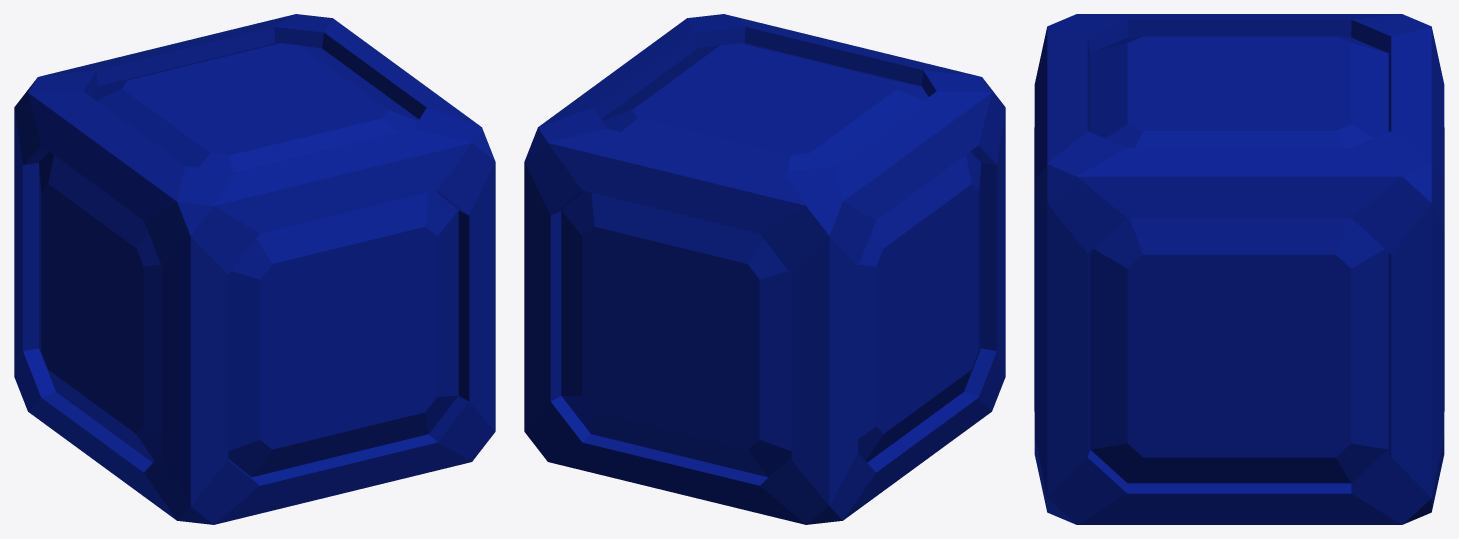
The model's file is BoxLow.fbx.
The picture shows the model from 3 angles, left to right: view 1: azimuth 30°, elevation 25°; view 2: azimuth 150°, elevation 25°; view 3: azimuth 270°, elevation 25°; orthographic projection. The views are drawn at different scales.
Parts seen in each view (by area): view 1: Box001; view 2: Box001; view 3: Box001.
Part boxes in pixels (left/top/right/bottom): Box001: left=14, top=14, right=495, bottom=524; Box001: left=524, top=14, right=1005, bottom=524; Box001: left=1034, top=14, right=1444, bottom=524.
Size of the model in its own units: 55 by 54.97 by 55.
